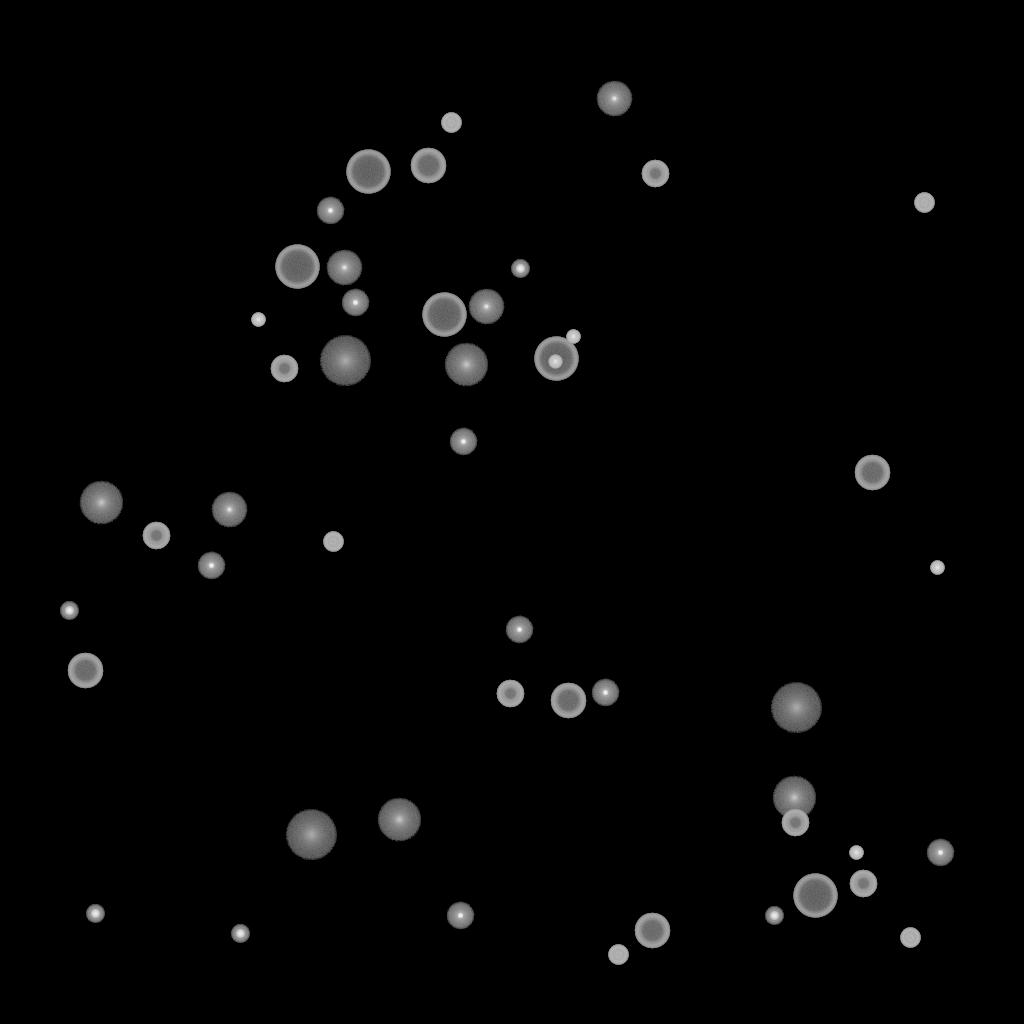depth:-10: (197, 552, 225, 580), (341, 289, 369, 317), (591, 679, 619, 707), (926, 839, 954, 867), (316, 197, 344, 225), (449, 428, 477, 456), (505, 616, 533, 644), (446, 902, 474, 930)
depth:-20: (765, 907, 783, 925), (86, 905, 104, 923), (60, 602, 78, 620), (511, 260, 529, 278), (231, 925, 249, 943)
depth:-30: (251, 313, 265, 327), (849, 846, 863, 860), (930, 561, 944, 575), (566, 330, 580, 344), (548, 355, 562, 369)
depth:-40: (441, 113, 461, 133), (323, 532, 343, 552), (914, 193, 934, 213), (900, 928, 920, 948), (608, 945, 628, 965)
depth:-50: (142, 522, 170, 550), (641, 160, 669, 188), (496, 680, 524, 708), (781, 809, 809, 837), (849, 870, 877, 898), (270, 355, 298, 383)
depth:-60: (67, 653, 103, 689), (854, 455, 890, 491), (550, 683, 586, 719), (634, 913, 670, 949), (410, 148, 446, 184)
depth:-70: (346, 150, 390, 194), (275, 245, 319, 289), (793, 874, 837, 918), (422, 293, 466, 337), (534, 337, 578, 381)
depth:0: (468, 289, 504, 325), (596, 81, 632, 117), (211, 492, 247, 528), (326, 250, 362, 286)
depth:10: (79, 481, 123, 525), (377, 798, 421, 842), (444, 343, 488, 387), (772, 776, 816, 820)
depth:20: (770, 683, 822, 733), (319, 336, 371, 386), (285, 810, 337, 860)
